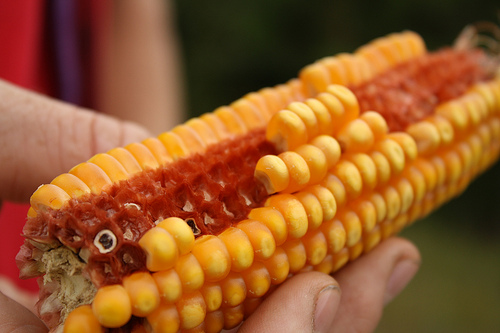corn: (24, 32, 499, 332)
